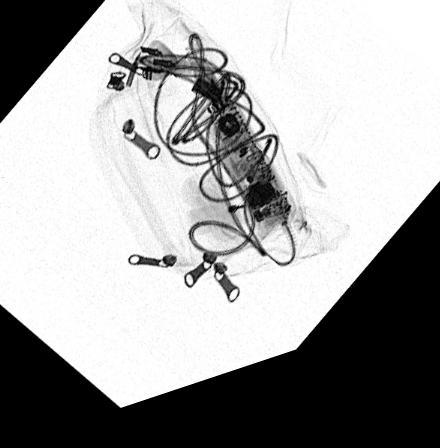Lighter: (224, 202, 285, 230)
